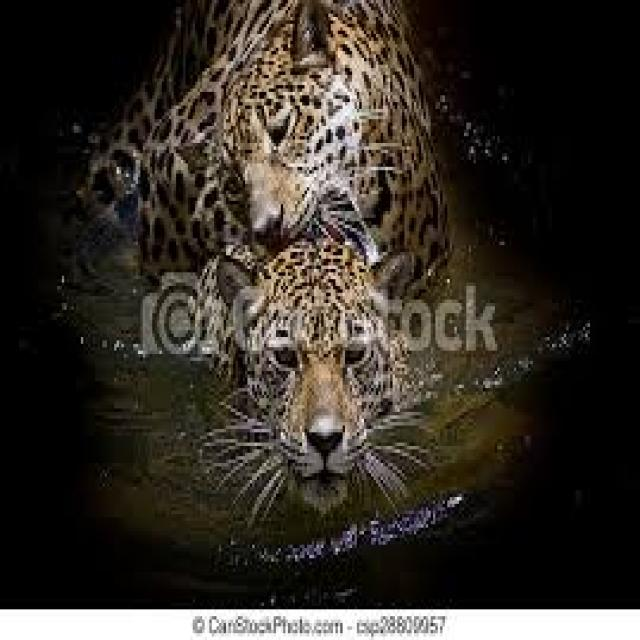Jaguar: (190, 232, 412, 514), (235, 7, 442, 282)
